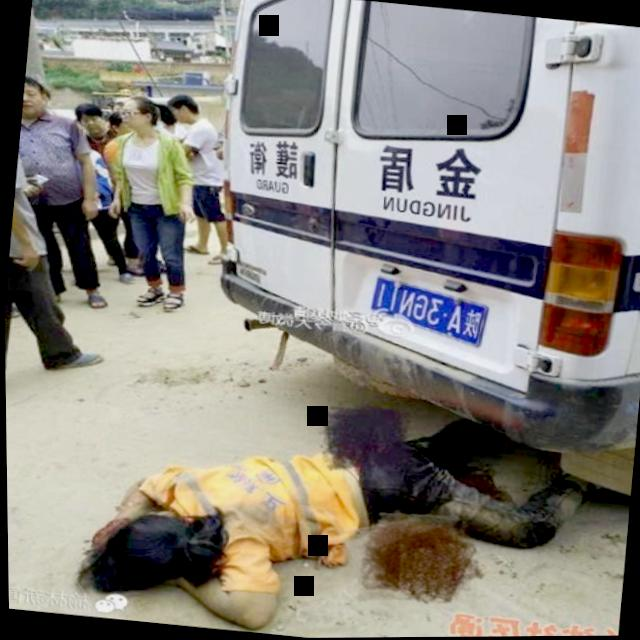Fall-Detected: (62, 368, 588, 640)
